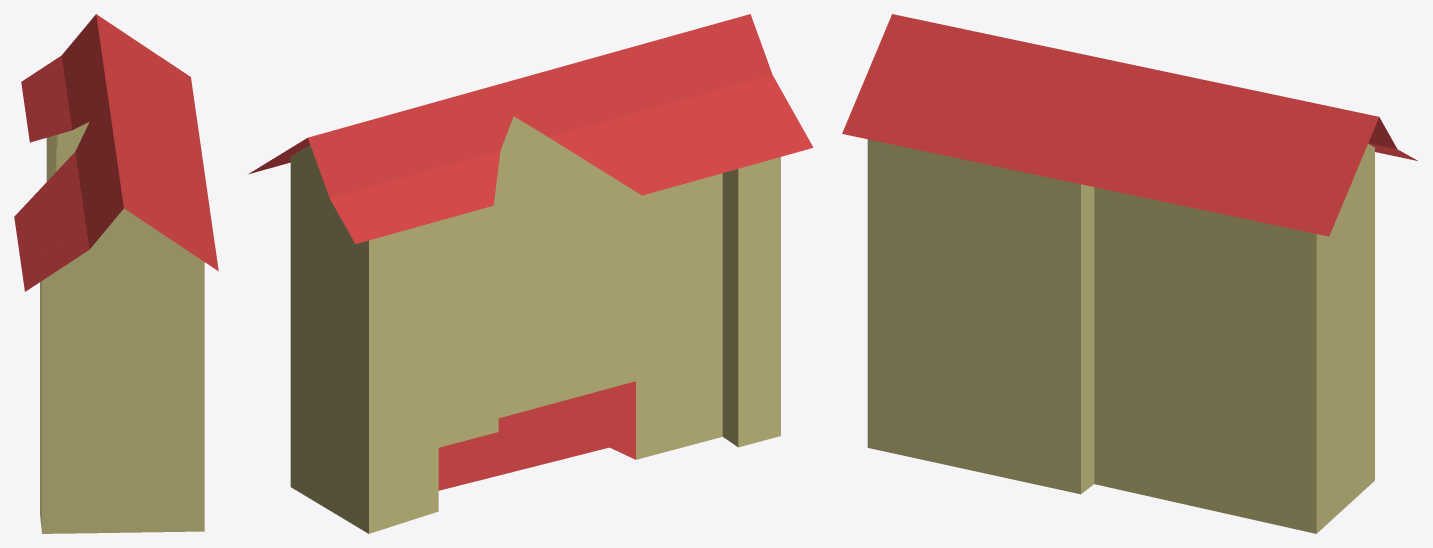
The picture shows the model from 3 angles, left to right: view 1: azimuth 30°, elevation 25°; view 2: azimuth 150°, elevation 25°; view 3: azimuth 270°, elevation 25°; orthographic projection. The views are drawn at different scales.
Bounding box in the file's own units: 17.42 × 22.41 × 16.85.
